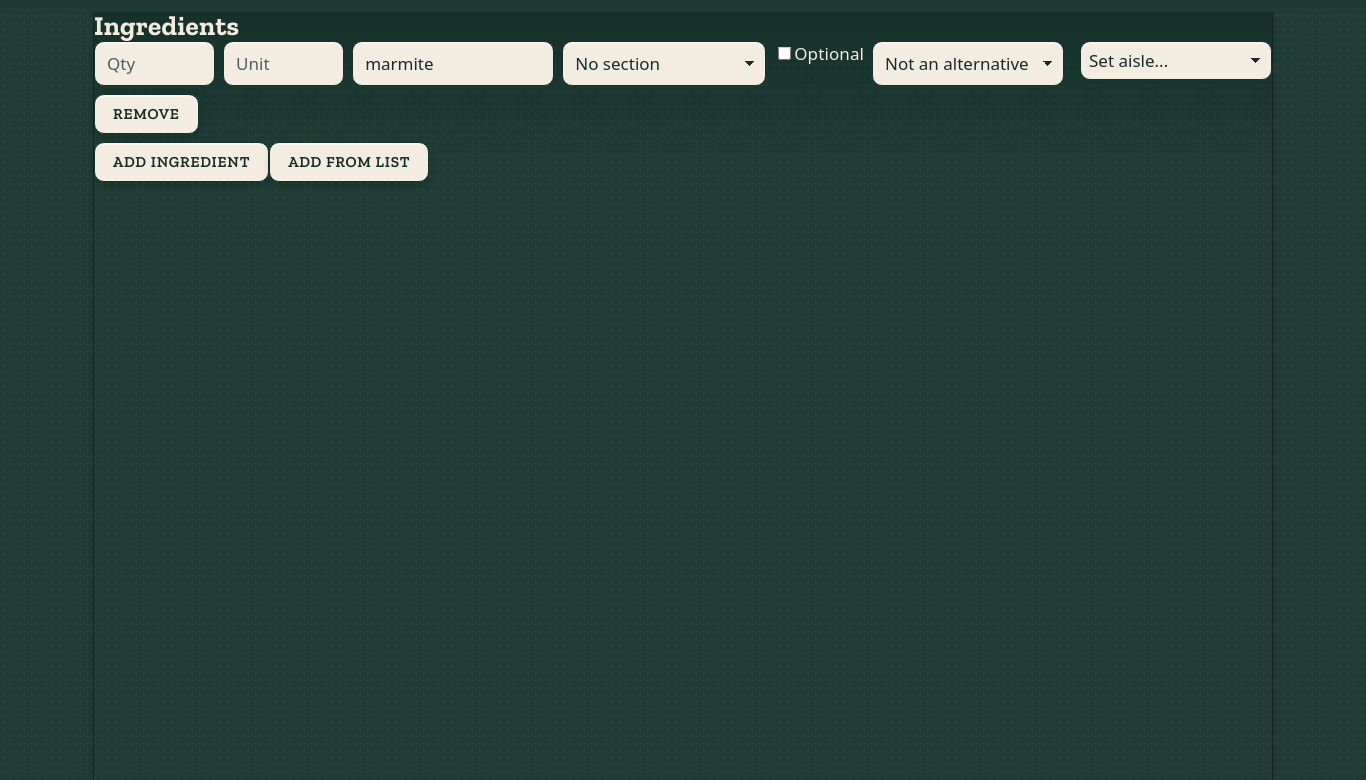
Scenario: a refused aisle write is reported, never swallowed
Select "Spices" in the dropdown named "Set aisle for marmite". click: coordinates (1176, 60)
box: [1080, 41, 1272, 80]
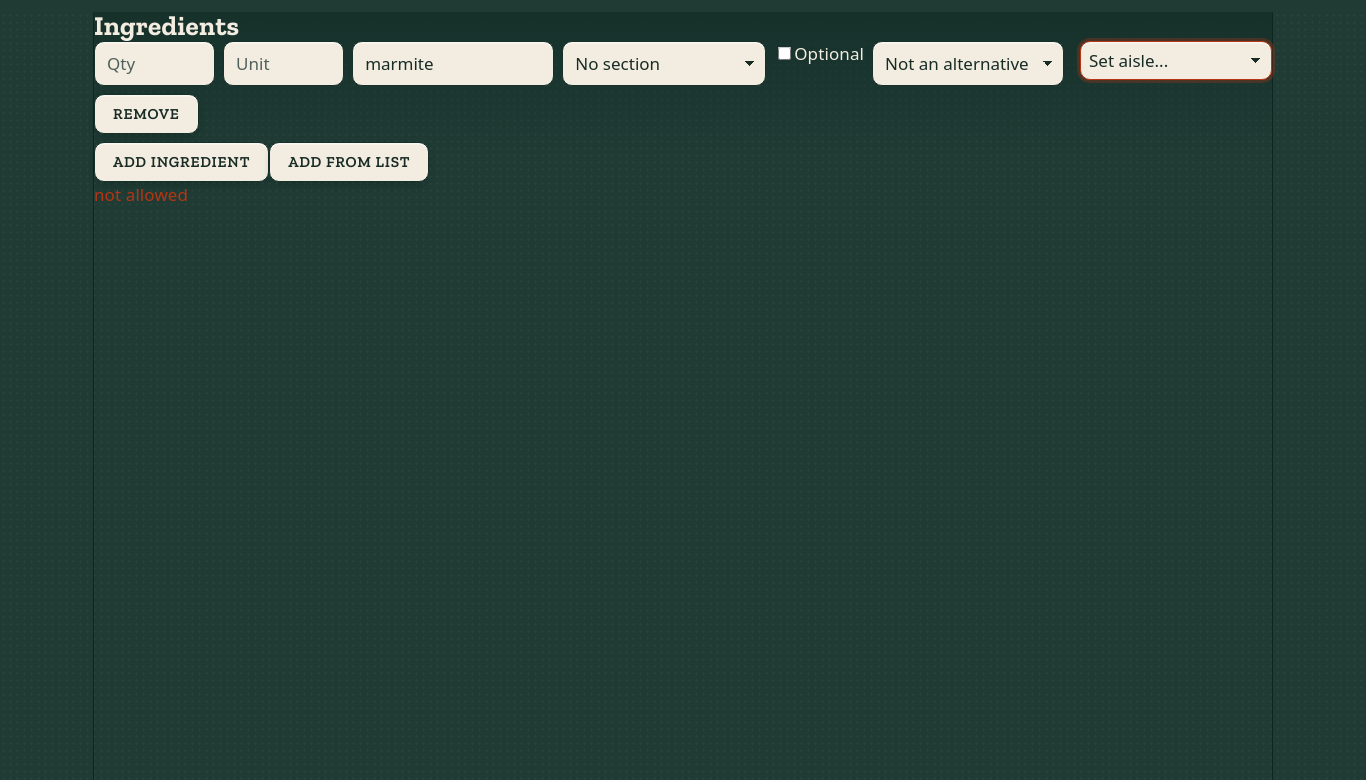
Result: the message reads "not allowed" at [94, 183, 188, 206]
